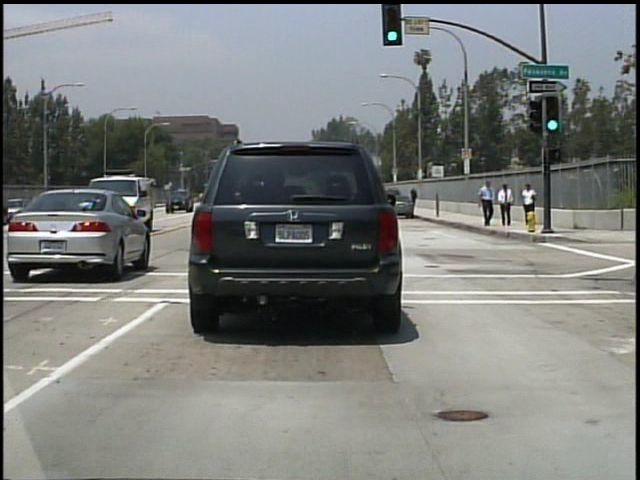person: (479, 179, 497, 232), (497, 181, 516, 227), (521, 182, 538, 214), (409, 187, 420, 210)
